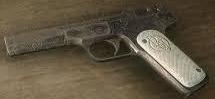gun: (1, 1, 215, 99)
